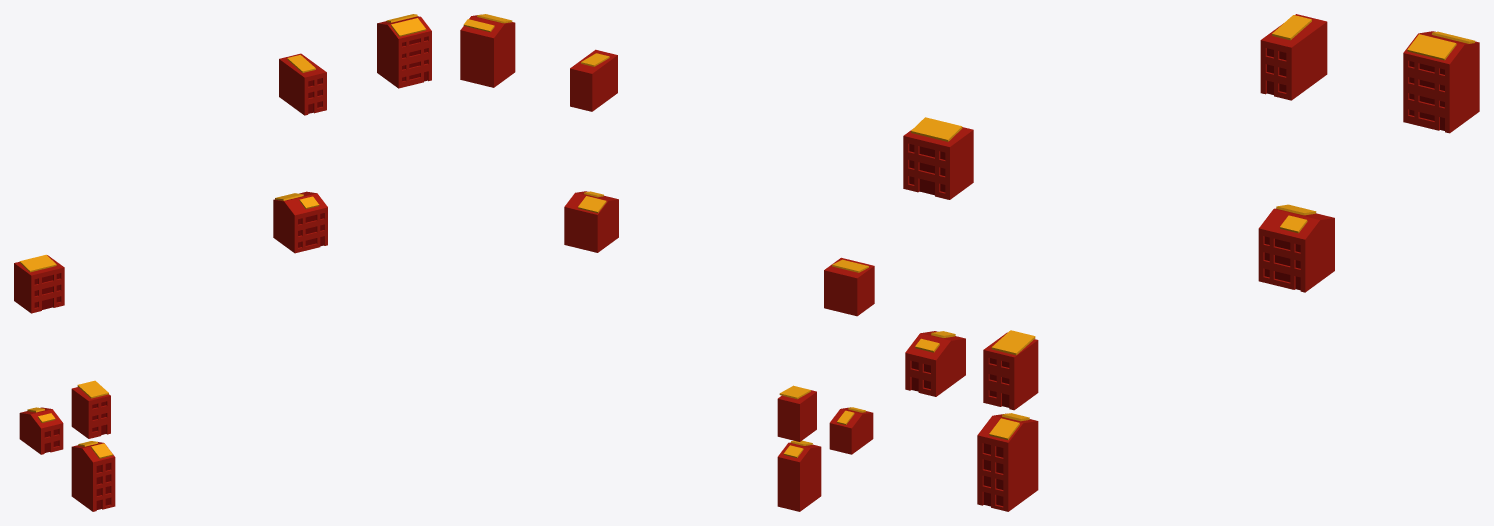
Rendered from BinaGrup2.gltf.
3 renders of one model, left to right at view 1: azimuth 30°, elevation 25°; view 2: azimuth 150°, elevation 25°; view 3: azimuth 330°, elevation 25°, orthographic. The views are drawn at different scales.
Parts seen in each view (by area): view 1: Building_071.017, Building_059.019, Building_034.019, Building_057.019, Building_024.019, Building_033.019, Building_026.019; view 2: Building_071.017, Building_034.019, Building_059.019, Building_024.019, Building_057.019, Building_033.019, Building_026.019; view 3: Building_071.017, Building_059.019, Building_034.019, Building_057.019, Building_024.019, Building_033.019, Building_026.019, Building_071_RoofCap_0.001, Building_024_RoofCap_0.004, Building_033_RoofCap_0.004.
Boxes of the visible parts, x1,y1,x2,y2 form: Building_071.017: (377,16,431,88); Building_059.019: (273,191,327,253); Building_034.019: (71,442,115,511); Building_057.019: (279,53,326,115); Building_024.019: (14,255,64,313); Building_033.019: (71,387,110,438); Building_026.019: (19,407,63,454); Building_071.017: (460,15,515,87); Building_034.019: (777,442,821,511); Building_059.019: (564,191,618,252); Building_024.019: (824,257,874,316); Building_057.019: (570,49,617,111); Building_033.019: (777,390,816,441); Building_026.019: (829,407,873,454); Building_071.017: (1403,31,1479,133); Building_059.019: (1258,208,1334,292); Building_034.019: (977,413,1038,511); Building_057.019: (1260,14,1327,100); Building_024.019: (903,127,973,199); Building_033.019: (983,332,1038,410); Building_026.019: (905,331,965,396); Building_071_RoofCap_0.001: (1407,34,1456,60); Building_024_RoofCap_0.004: (911,117,962,141); Building_033_RoofCap_0.004: (991,330,1035,355).
Bounding box in the file's own units: 0.5815 × 0.5688 × 0.0652.
